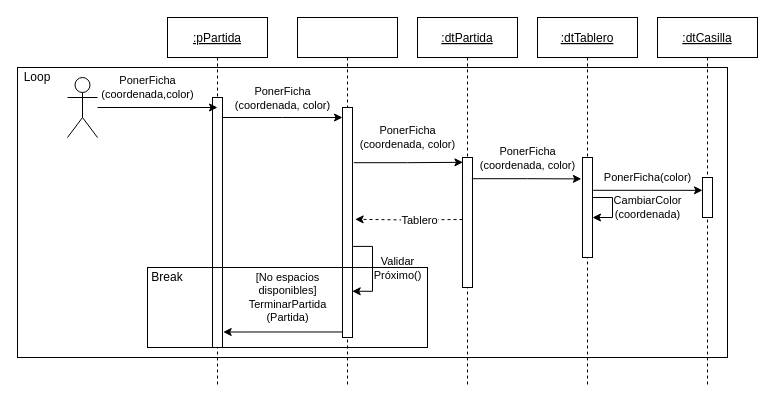
Some shapes in this 775 by 405 pixel diagram are drawn without their labels. The shapes that lost their labels are listed below. From the top down, each one's box as (x1, y1, x2, y2) in pixels, then its label:
(66, 76, 98, 138): Usuario
(296, 16, 398, 388): :ctrlPartida
